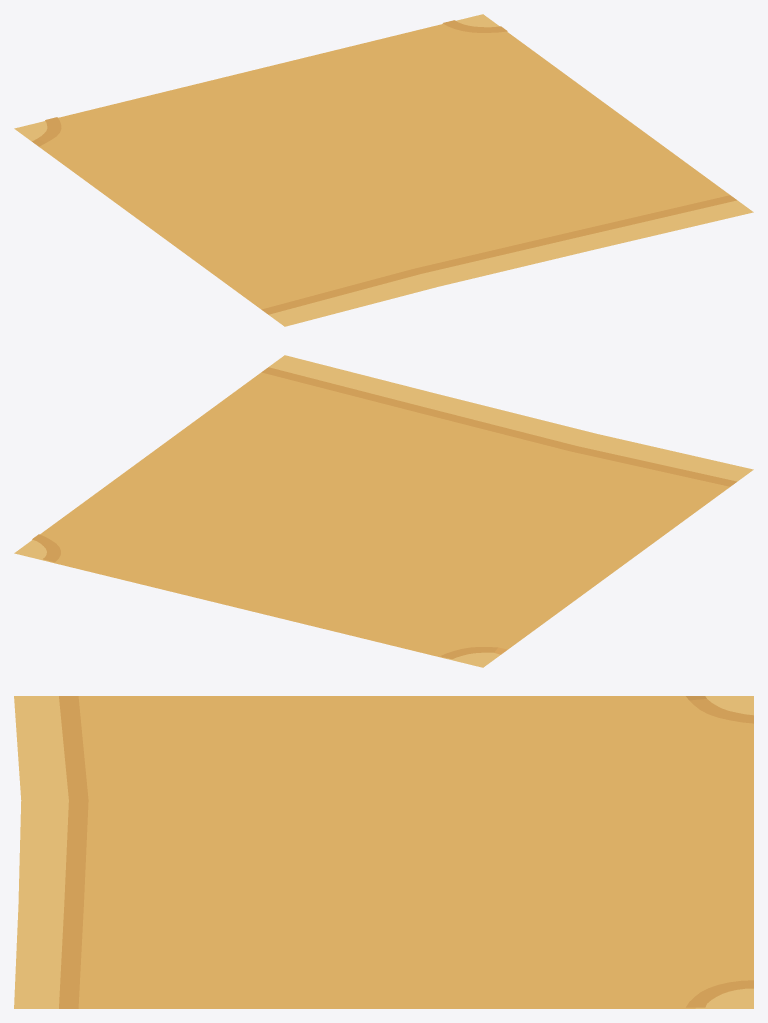
The model's file is FloorT.fbx.
The picture shows the model from 3 angles, top to bottom: view 1: azimuth 30°, elevation 25°; view 2: azimuth 150°, elevation 25°; view 3: azimuth 270°, elevation 25°; orthographic projection. The views are drawn at different scales.
Visible parts, largest first — view 1: Plane.007; view 2: Plane.007; view 3: Plane.007.
Boxes of the visible parts, x1,y1,x2,y2 form: Plane.007: [14, 14, 753, 326]; Plane.007: [14, 355, 753, 667]; Plane.007: [14, 696, 753, 1008].
Size of the model in its own units: 200 by 0.4021 by 200.
